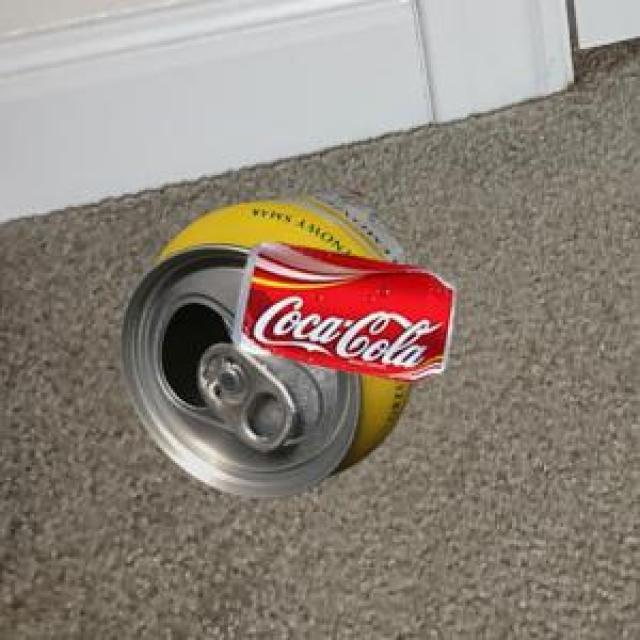Can: (118, 187, 411, 496), (229, 240, 451, 379)
